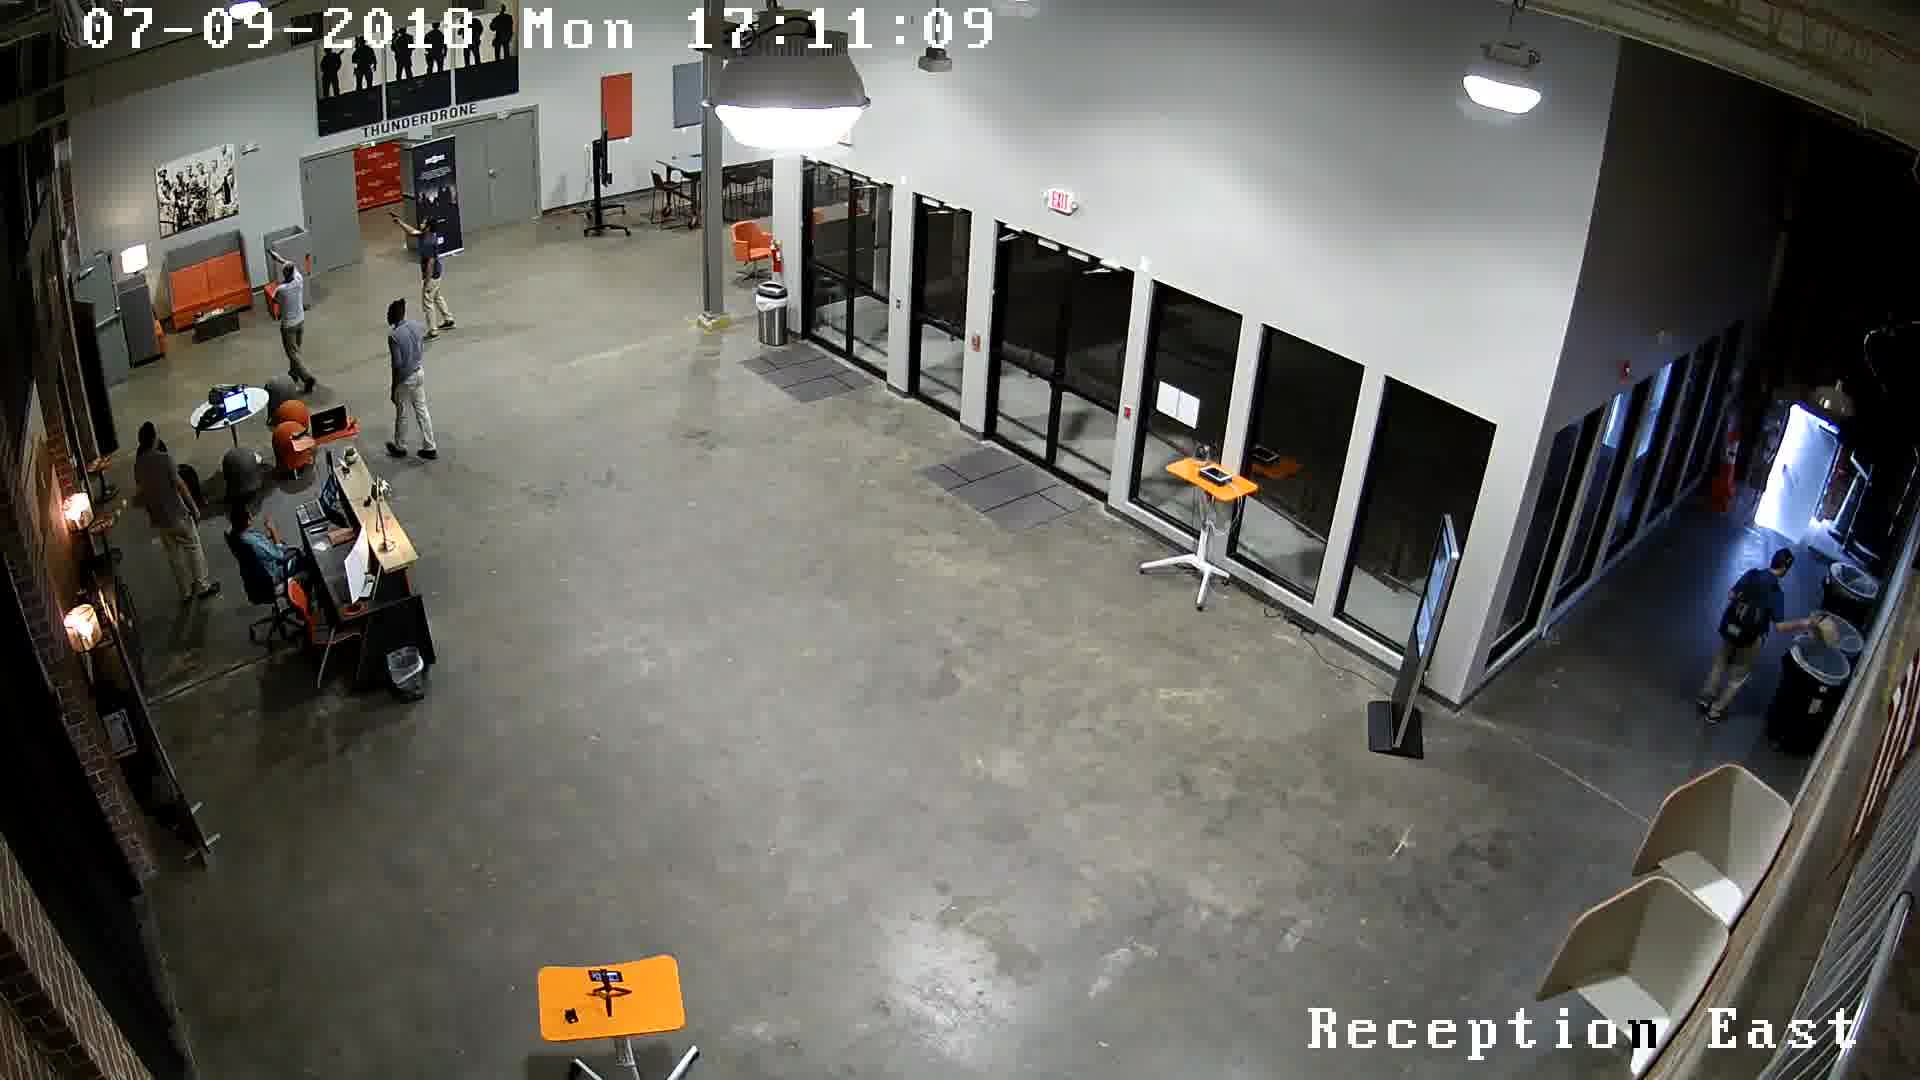pistol: (367, 204, 410, 237), (253, 233, 281, 269)
